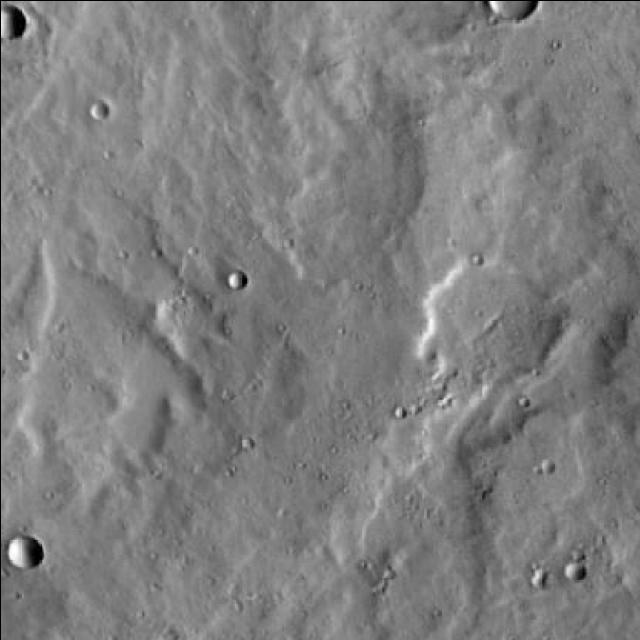crater: (422, 260, 554, 389), (478, 0, 538, 22), (12, 536, 40, 570), (0, 5, 20, 37), (85, 100, 104, 118), (565, 563, 583, 580), (227, 270, 244, 288)
